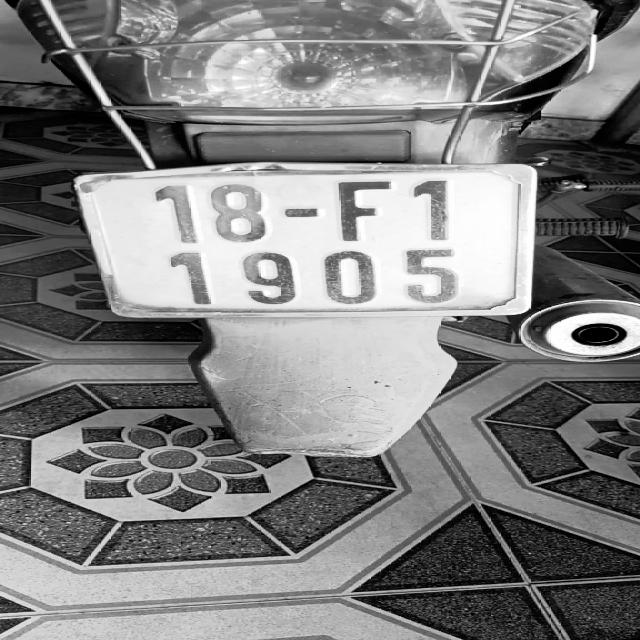license_plate: (78, 160, 556, 330)
